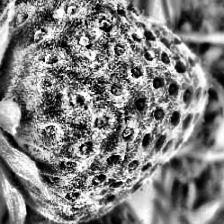Powdery Mildew Fruit: (0, 0, 210, 224), (0, 196, 182, 224)
